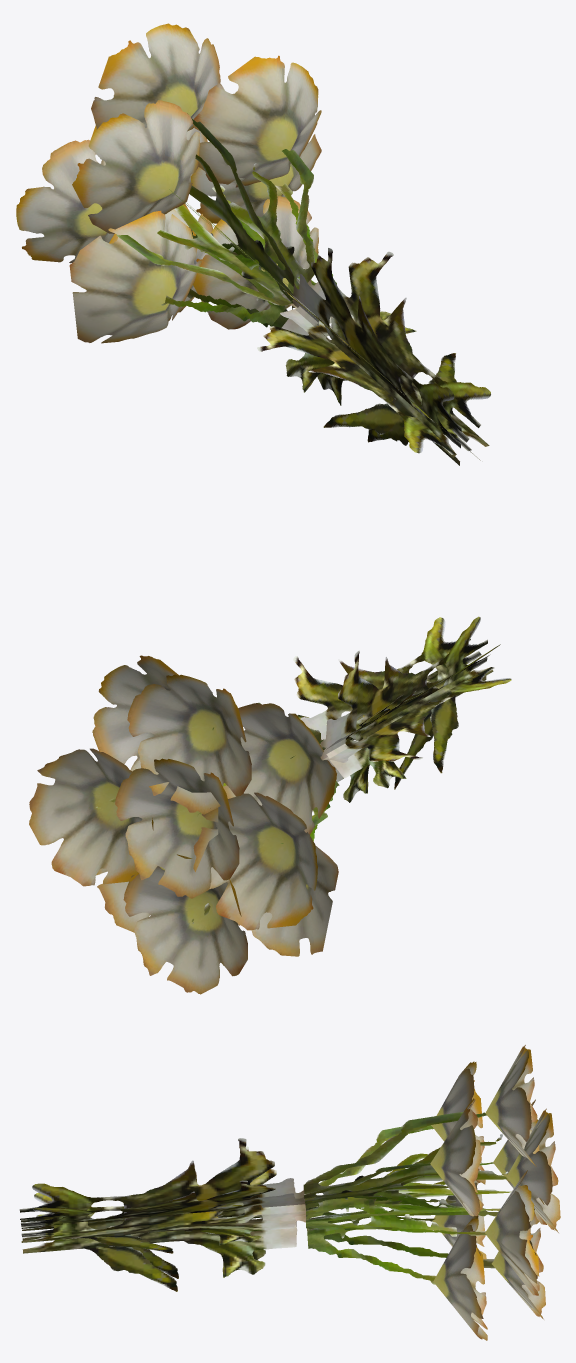
Rendered from flowersbunch02.obj.
3 views of the same model, one above another, from view 1: azimuth 30°, elevation 25°; view 2: azimuth 150°, elevation 25°; view 3: azimuth 270°, elevation 25° (orthographic). The views are drawn at different scales.
Visible parts, largest first — view 1: flowersbunch02; view 2: flowersbunch02; view 3: flowersbunch02.
Part boxes in pixels (x1,y1,x2,y2): flowersbunch02: (16, 23, 490, 465); flowersbunch02: (29, 616, 511, 994); flowersbunch02: (19, 1045, 560, 1340).
Bounding box in the file's own units: 0.4518 × 0.4512 × 0.8181.
Materials: 1 (1 with a texture image).
